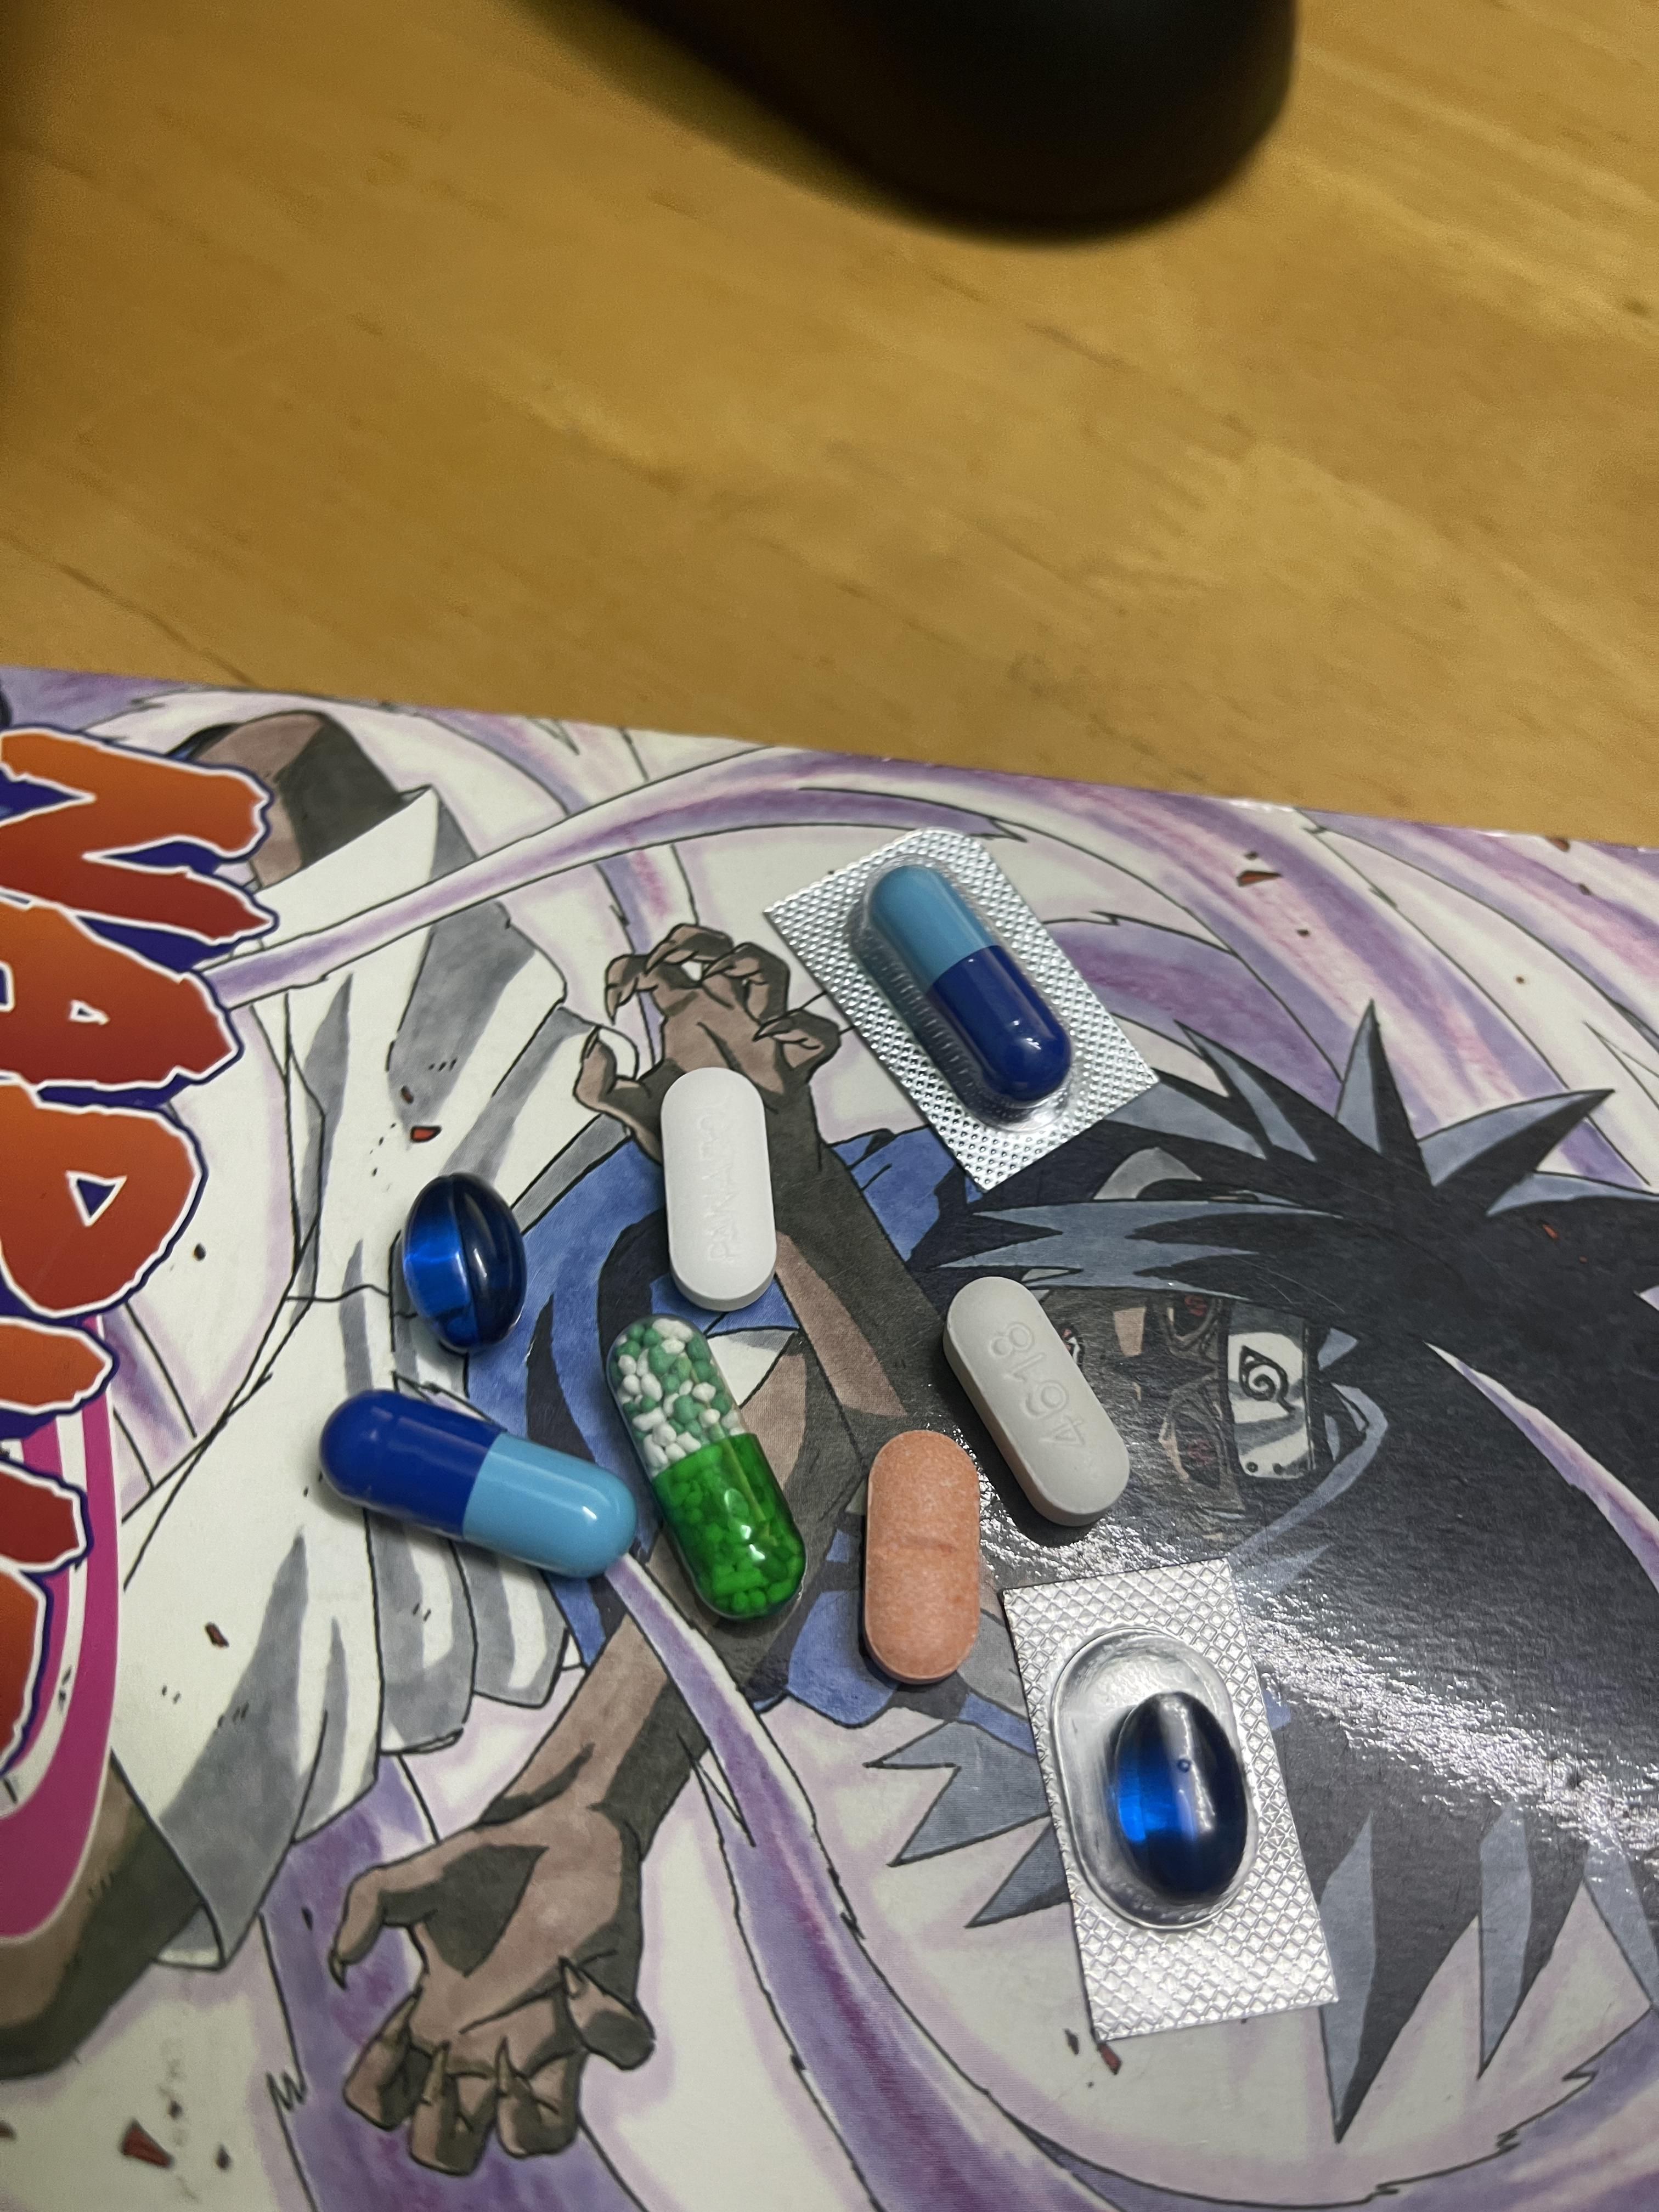Lincomyxin_500mg: (1107, 1689, 1251, 1907), (403, 1179, 523, 1350)
Loratadine_10mg: (861, 1439, 981, 1679)
Paracetamol_350mg: (657, 1073, 772, 1305)
Paracetamol_500mg: (948, 1282, 1131, 1519)
Paracetamol_650mg: (612, 1324, 809, 1609)
pill: (317, 1386, 640, 1580), (870, 866, 1068, 1111)
